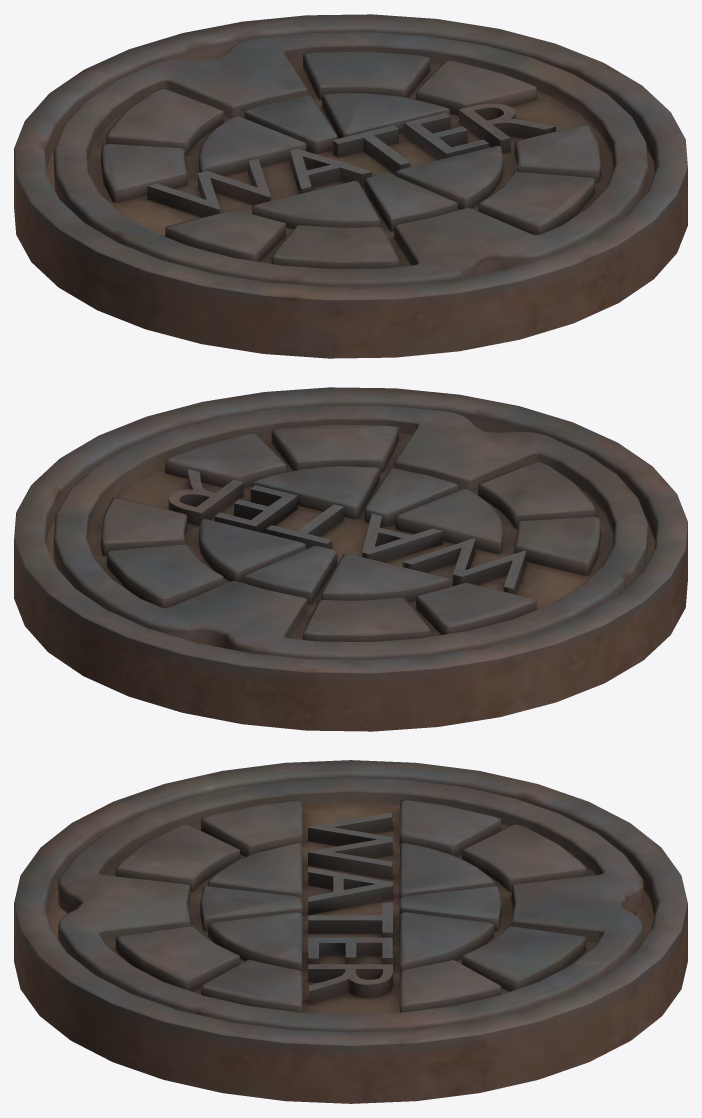
Rendered from water_manhole_cover.glb.
3 views of the same model, one above another, from view 1: azimuth 30°, elevation 25°; view 2: azimuth 150°, elevation 25°; view 3: azimuth 270°, elevation 25° (orthographic).
Parts seen in each view (by area): view 1: water_manhole_cover_frame; view 2: water_manhole_cover_frame; view 3: water_manhole_cover_frame.
Part boxes in pixels (<box>): water_manhole_cover_frame: <box>14,14,687,358</box>; water_manhole_cover_frame: <box>14,387,687,731</box>; water_manhole_cover_frame: <box>14,760,687,1103</box>.
Size of the model in its own units: 0.6908 by 0.0676 by 0.6908.
1 material, 1 textured.
